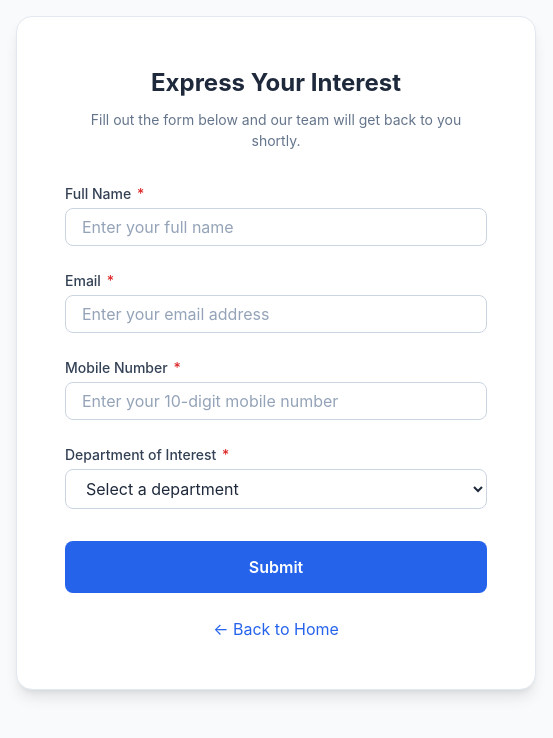
InterestForm › shows validation errors for empty required fields › shows validation error for invalid mobile number
Type "John Doe" into the field labelled "Full Name *" at (276, 227), box [65, 208, 487, 246]
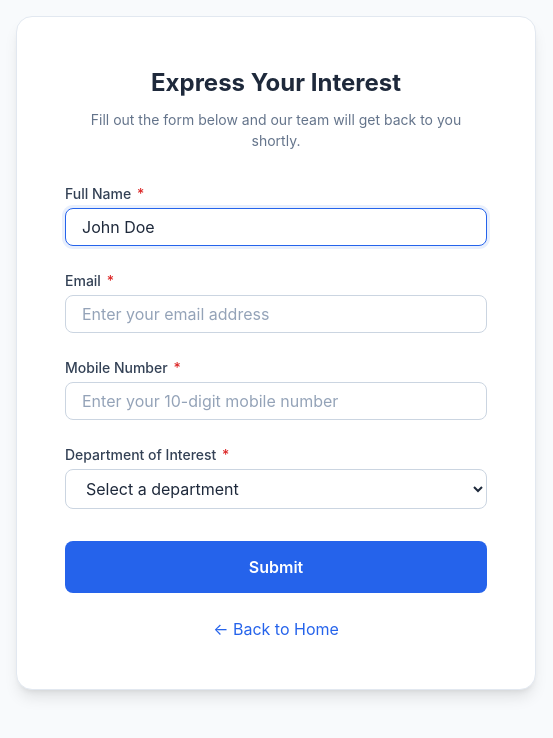
Type "john@example.com" into the field labelled "Email *" at (276, 314), box [65, 295, 487, 333]
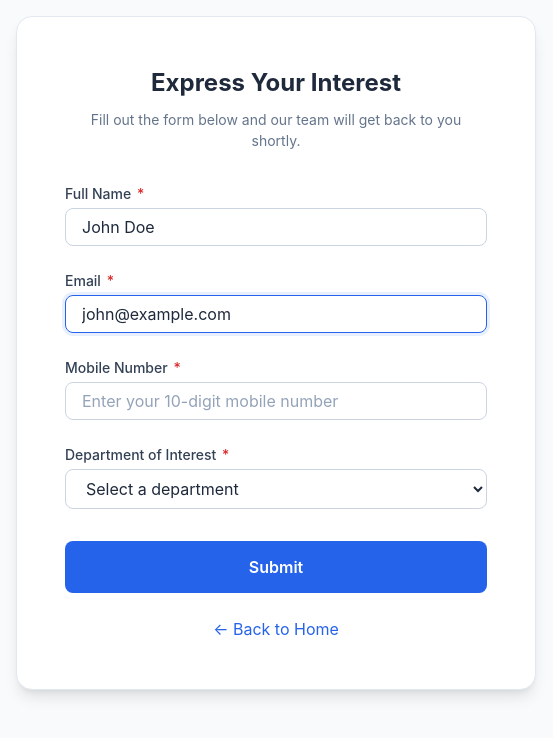
Type "12345" into the field labelled "Mobile Number *" at (276, 401), box [65, 382, 487, 420]
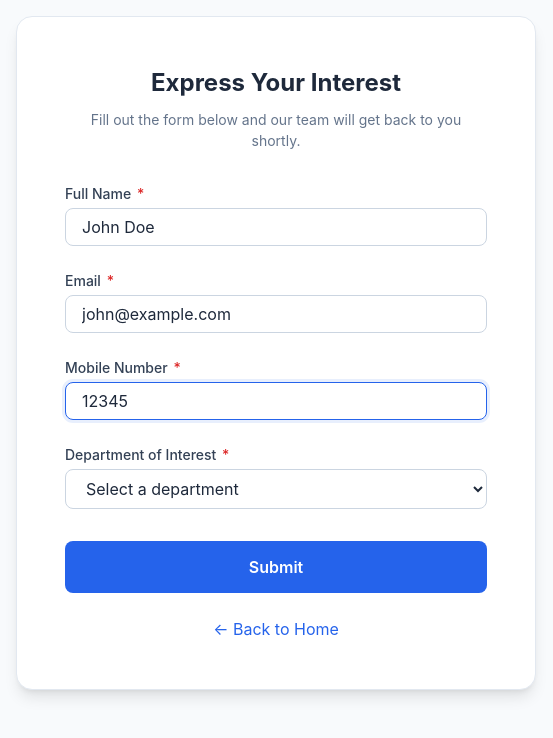
Select "Engineering" in the dropdown labelled "Department of Interest *" at (276, 489), box [65, 469, 487, 509]
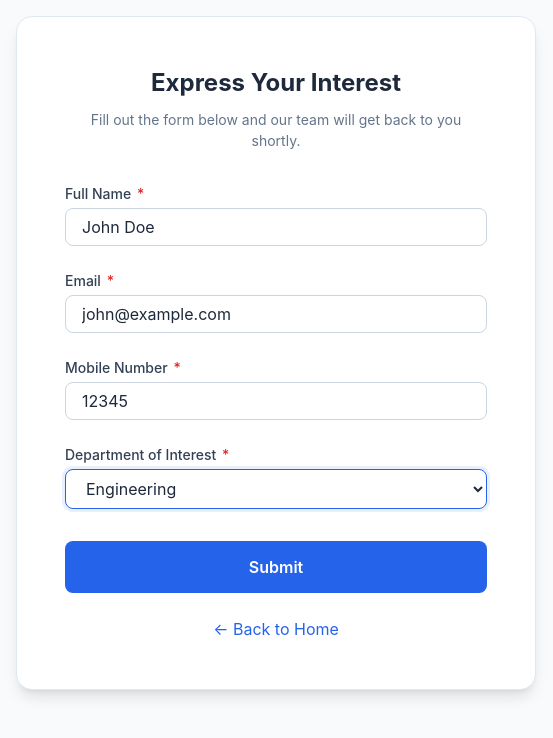
Click the button "Submit" at (276, 567), box [65, 541, 487, 593]
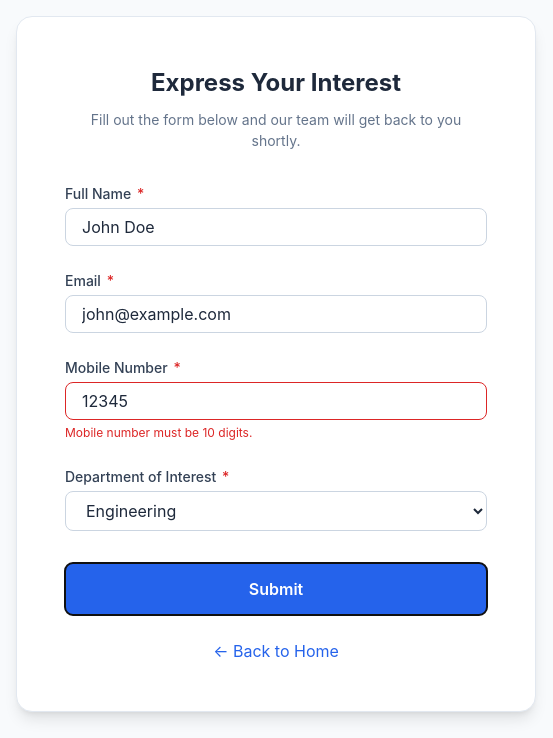
Expected: the text "Mobile number must be 10 digits." is shown, [65, 425, 252, 440]
